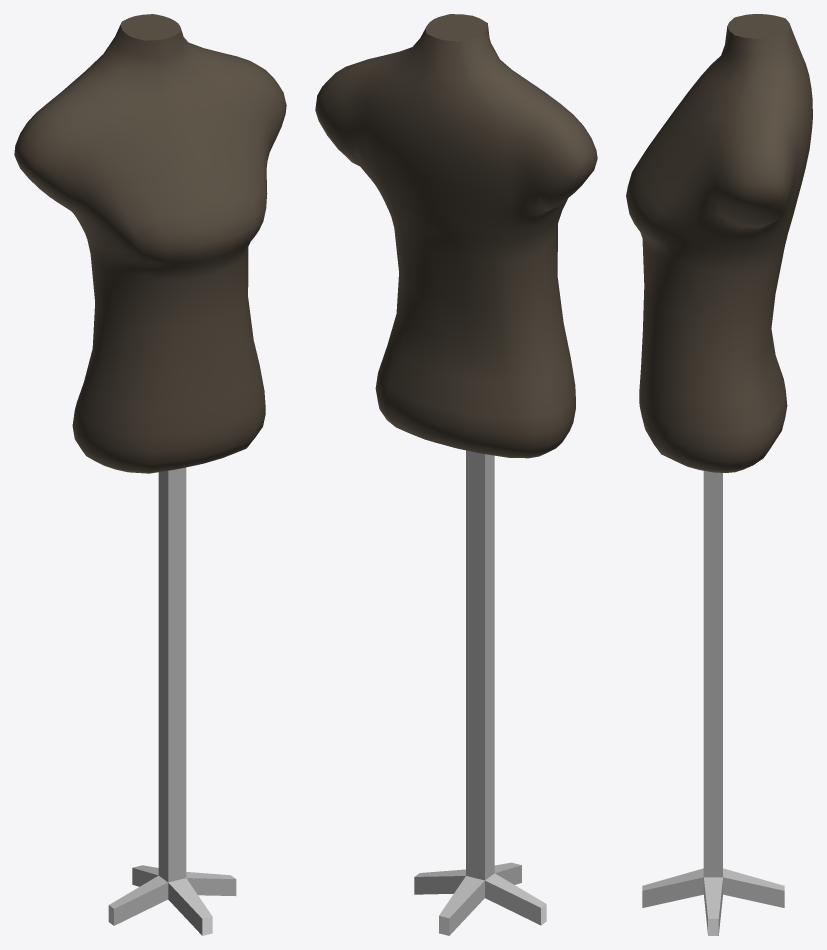
The model's file is mannequin-f-2.fbx.
3 renders of one model, left to right at view 1: azimuth 30°, elevation 25°; view 2: azimuth 150°, elevation 25°; view 3: azimuth 270°, elevation 25°, orthographic. The views are drawn at different scales.
Visible parts, largest first — view 1: mannequin-f-2; view 2: mannequin-f-2; view 3: mannequin-f-2.
Part boxes in pixels (box(x1,y1,x2,y2)): mannequin-f-2: box(14, 14, 286, 935); mannequin-f-2: box(315, 14, 597, 935); mannequin-f-2: box(626, 14, 812, 935).
Size of the model in its own units: 56.92 by 180 by 34.77.
Materials: 2 (2 with a texture image).
